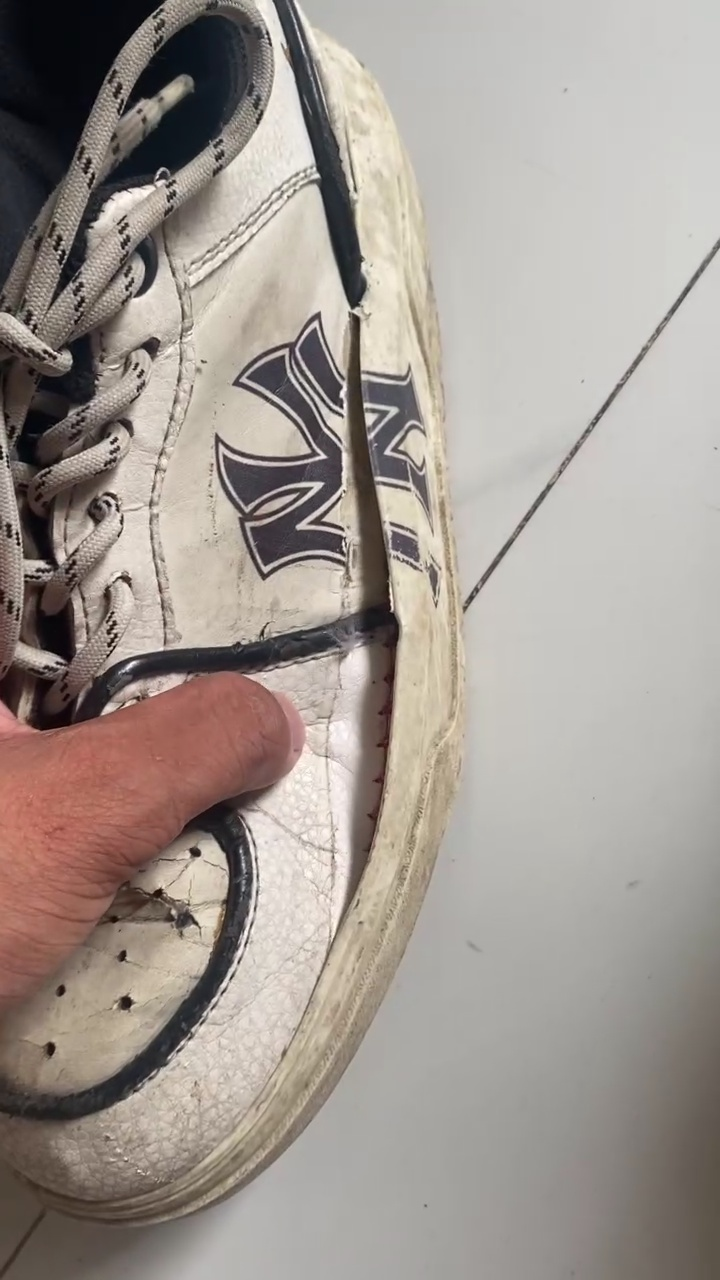bonding: (323, 349, 399, 896)
